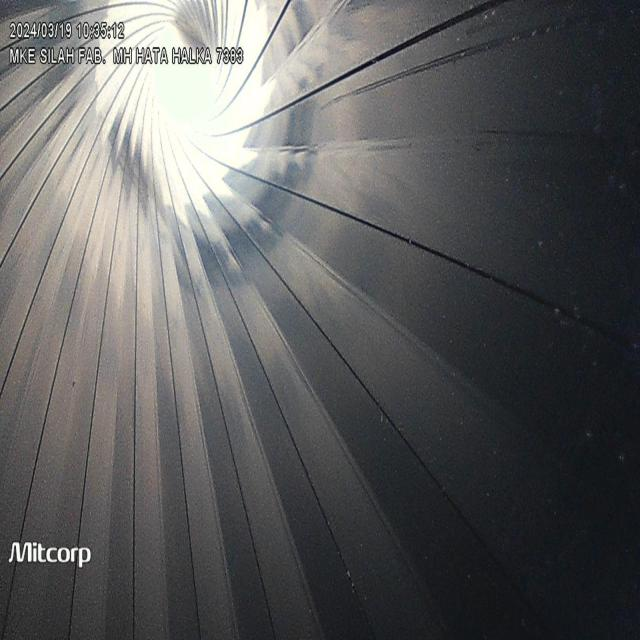hata_8.1: (242, 136, 403, 295)
